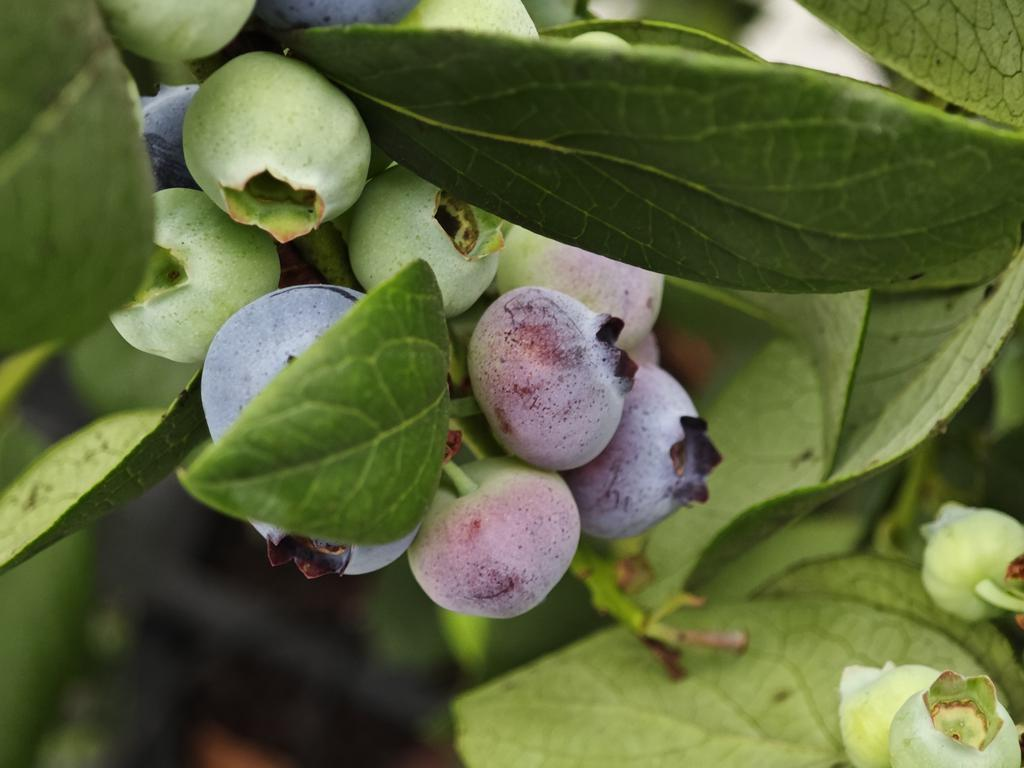Semi-RipeBlueBerry: (468, 284, 629, 472), (411, 460, 584, 621)
UnripeBlueBerry: (182, 49, 362, 236)
